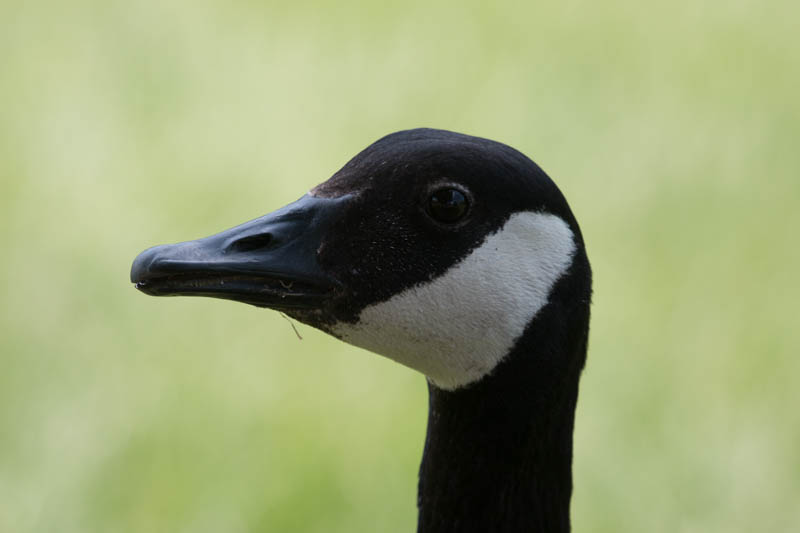goose-head: (131, 128, 592, 390)
